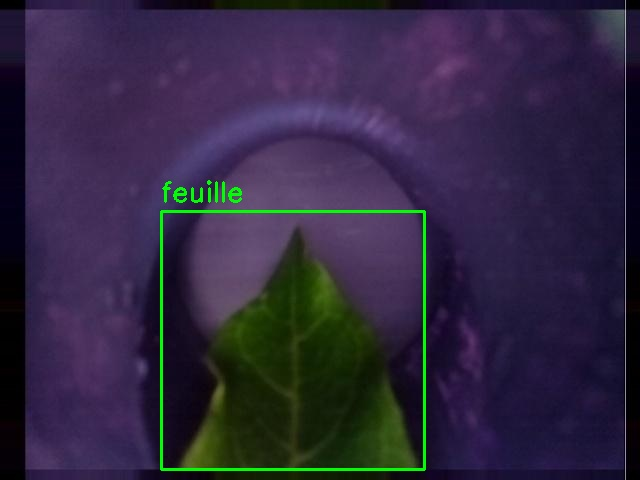feuille: (161, 211, 424, 469)
